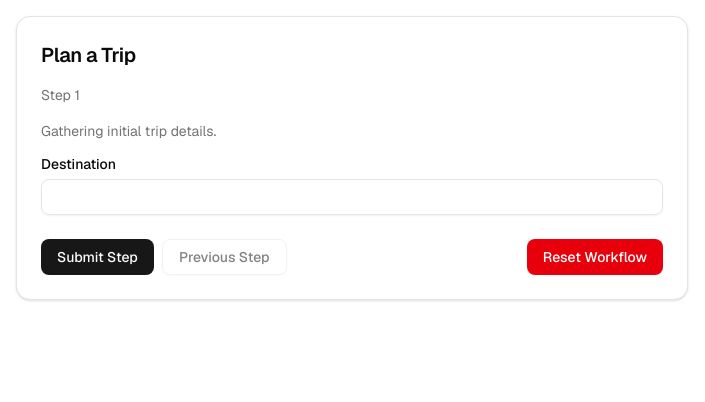
it: WorkflowStepContainer › submit sets error state when Gemini throws
Type "Paris" into the field labelled "Destination" at (352, 197), box [41,179,663,215]
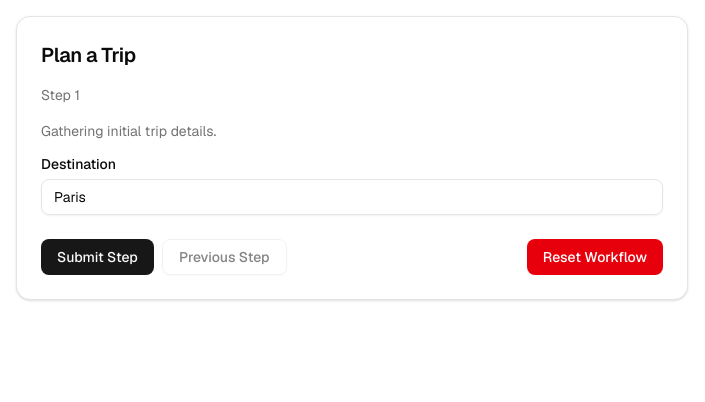
Click the button "Submit Step" at (97, 257), box [41,239,154,275]
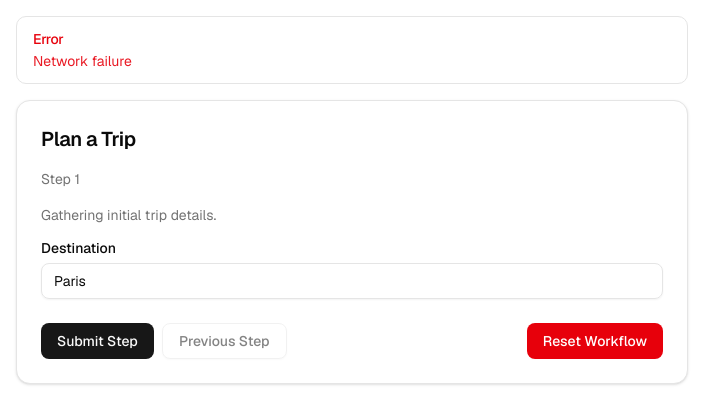
Result: the text "Network failure" is shown at [33,52,132,70]
